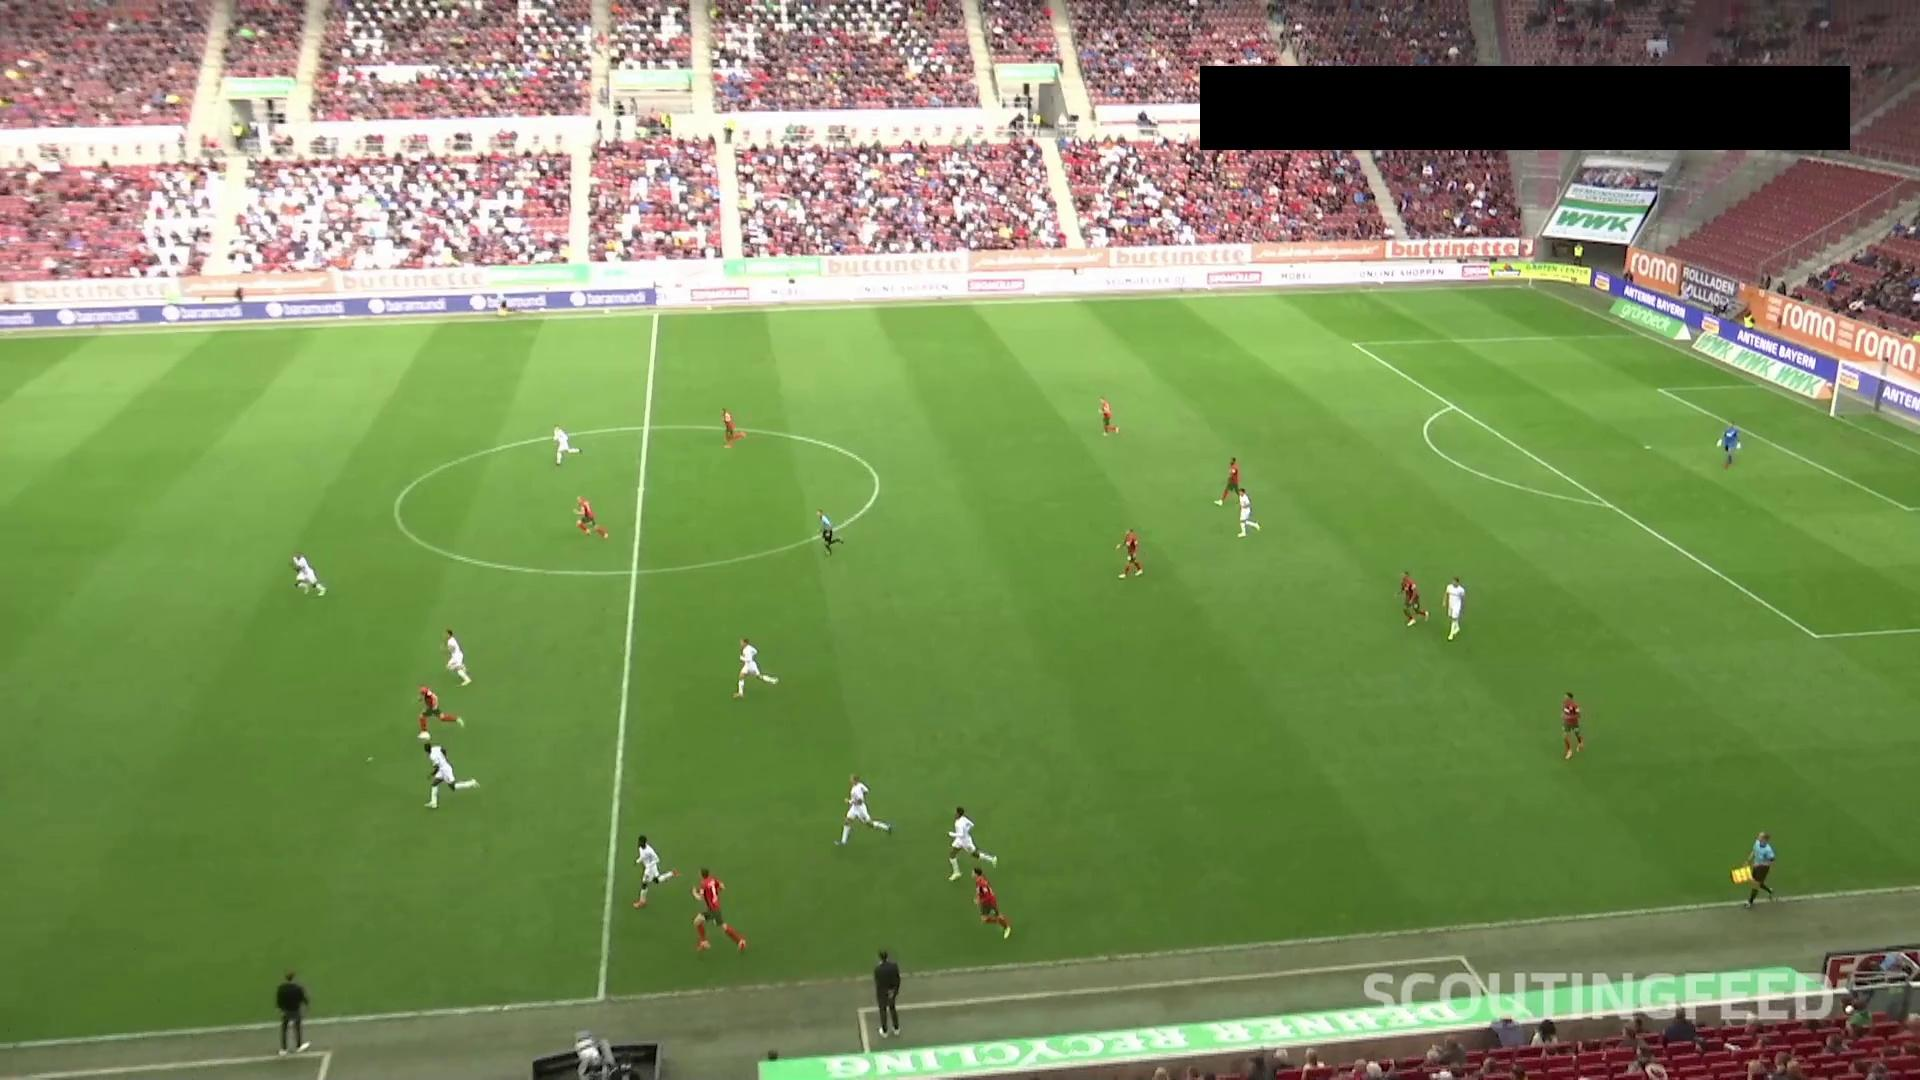Location-of-ball: (396, 724, 447, 748)
